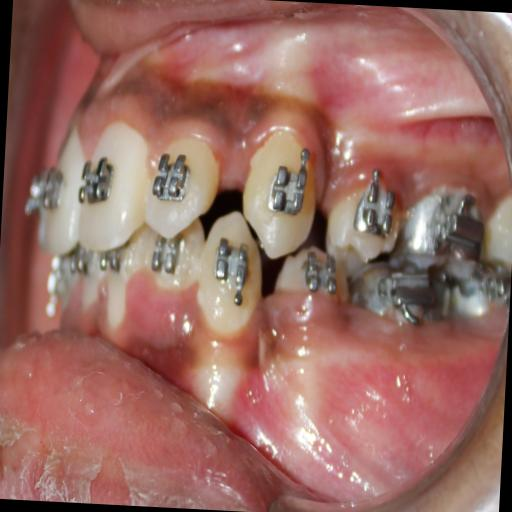correct_brace: (324, 174, 401, 275), (266, 167, 312, 220), (152, 150, 194, 206), (350, 189, 398, 234), (80, 150, 114, 210)
incorrect_brace: (142, 135, 224, 240)
